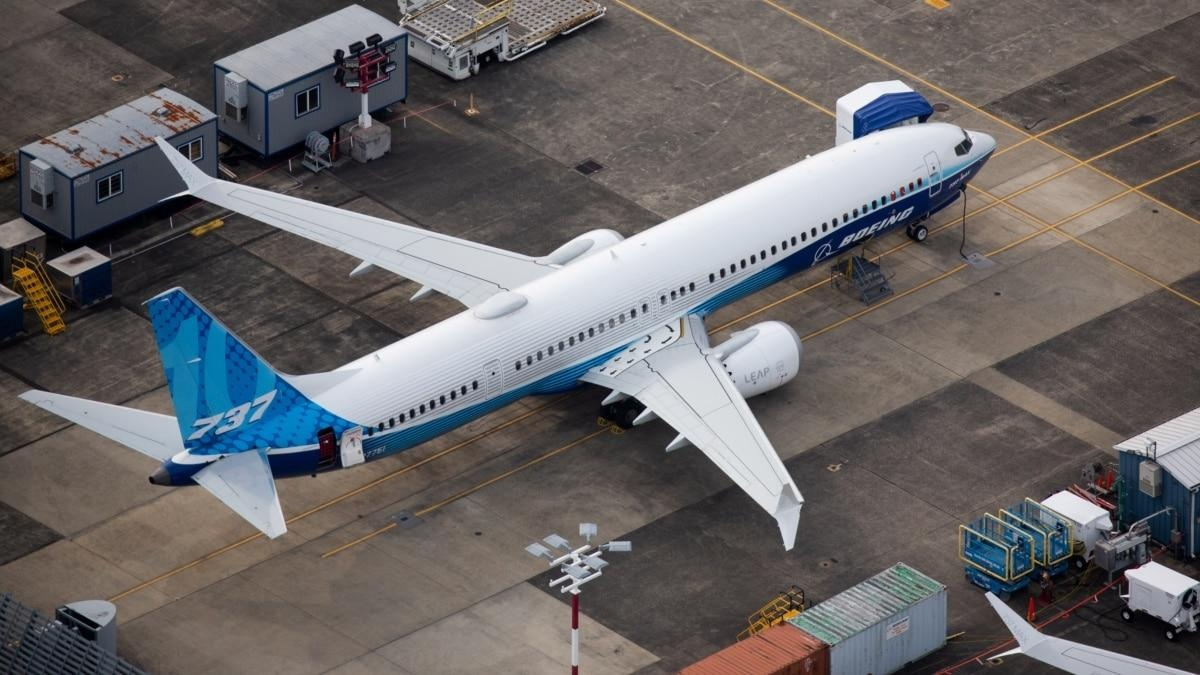aircraft: (2, 84, 990, 551)
